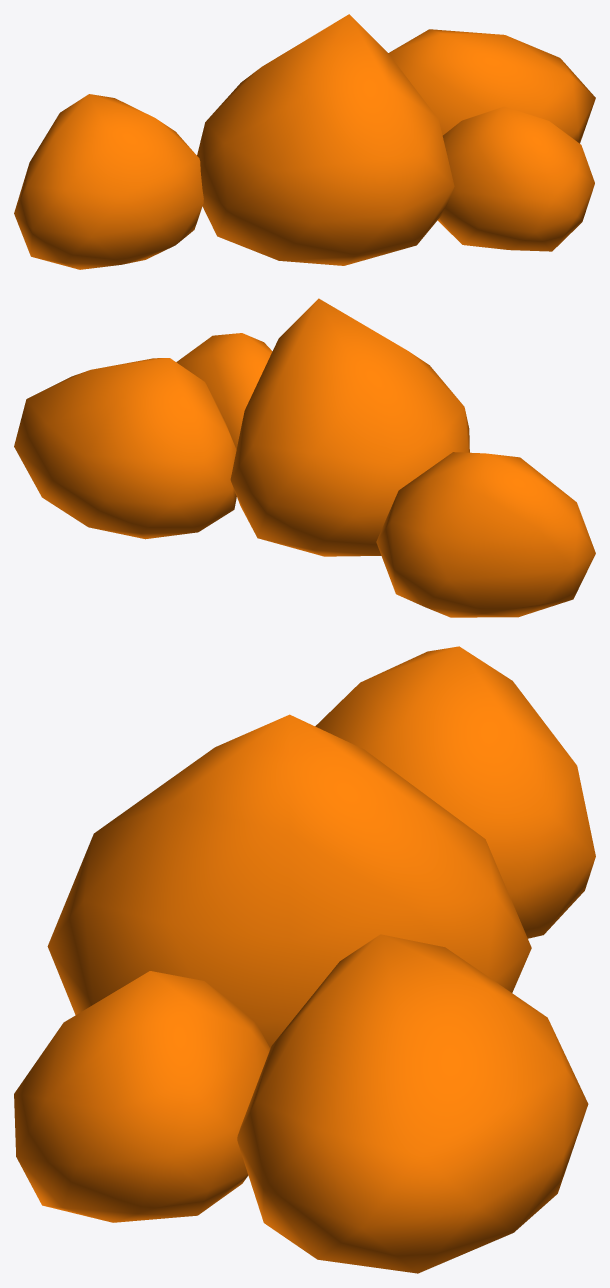
File: Bush_02.2.fbx
The picture shows the model from 3 angles, top to bottom: view 1: azimuth 30°, elevation 25°; view 2: azimuth 150°, elevation 25°; view 3: azimuth 270°, elevation 25°; orthographic projection. The views are drawn at different scales.
Visible parts, largest first — view 1: Bush_02.2; view 2: Bush_02.2; view 3: Bush_02.2.
Boxes of the visible parts, <box> form: Bush_02.2: <box>14,14,595,269</box>; Bush_02.2: <box>14,298,595,617</box>; Bush_02.2: <box>14,646,595,1273</box>.
Bounding box in the file's own units: 334 × 172 × 125.
